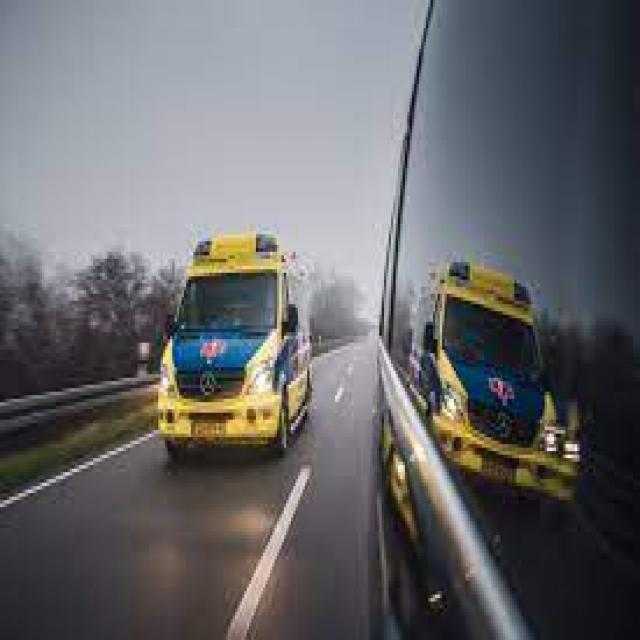emergency-vehicle: (140, 216, 328, 479)
